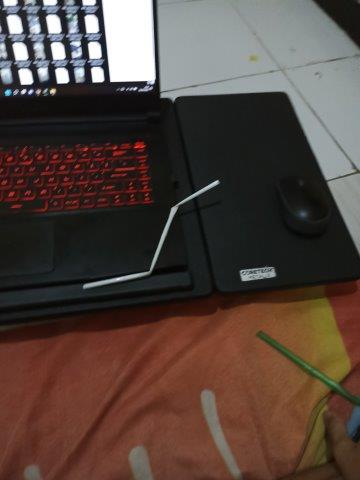sedotan: (84, 181, 218, 288), (259, 330, 360, 406)
